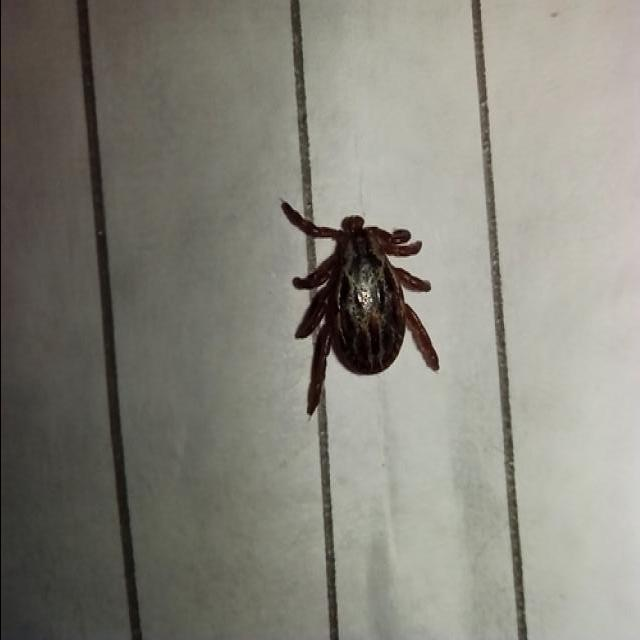Dermacentor Reticulatus-M: (278, 200, 438, 416)
